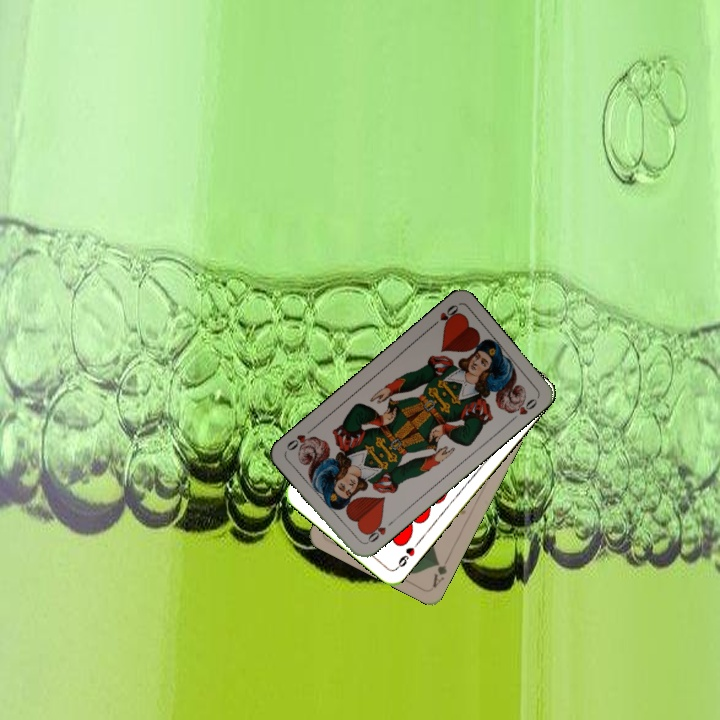GA: (428, 557, 450, 590)
H9: (392, 538, 422, 572)
HO: (361, 516, 396, 547), (426, 301, 462, 331)
